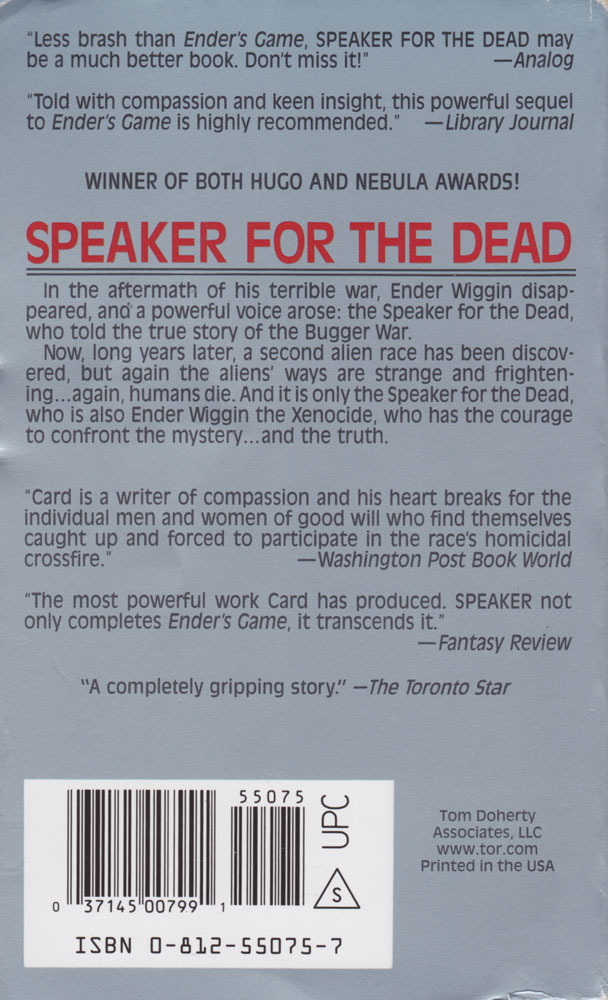barcode: (30, 779, 364, 959)
